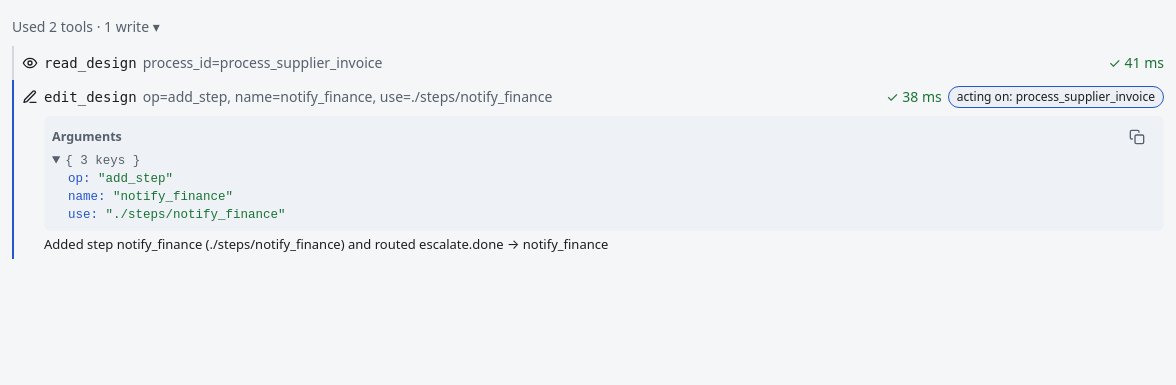
it: ToolActivityGroup › a row expands to its summary and collapses again
This screenshot has width=1176, height=385.
Click the button "read_design process_id=process_supplier_invoice".
click(90, 63)  # box [22,48,1102,78]
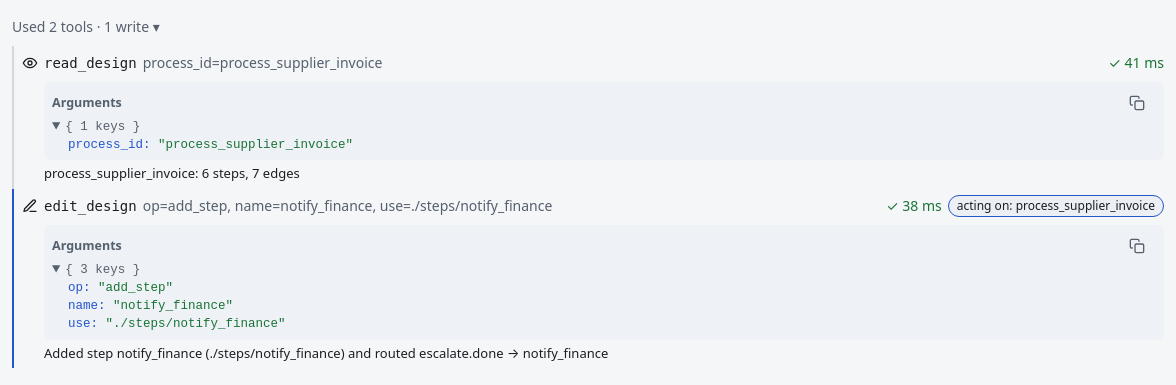
Now the text "process_supplier_invoice: 6 steps, 7 edges" is shown, box [44,164,300,182]
Click the button "read_design process_id=process_supplier_invoice".
click(90, 63)  # box [22,48,1102,78]
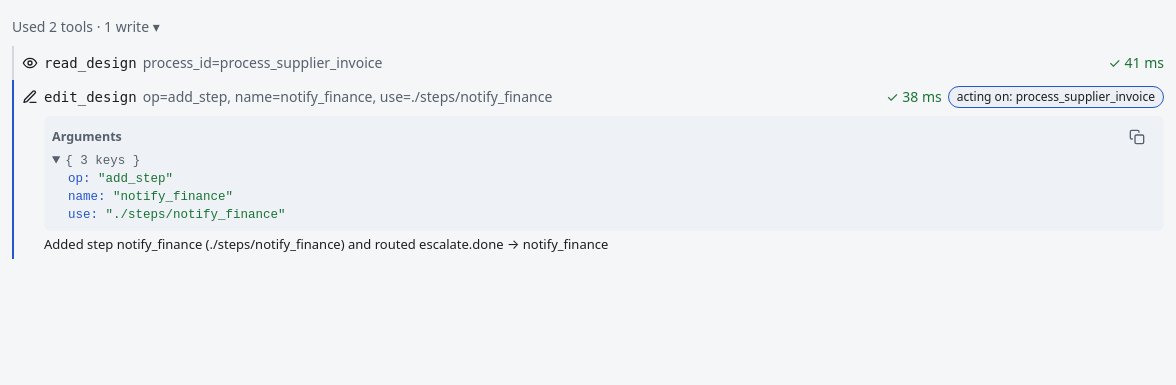
Expected: the text "38 ms" is shown, [902,87,942,106]
Now the text "process_supplier_invoice: 6 steps, 7 edges" is gone
